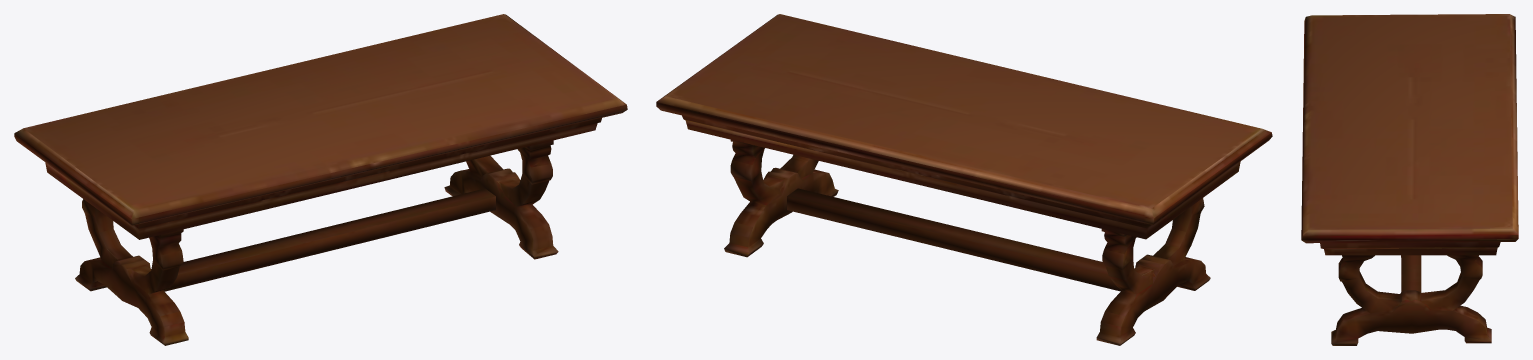
File: wyn_furn_banquet_table.glb
The picture shows the model from 3 angles, left to right: view 1: azimuth 30°, elevation 25°; view 2: azimuth 150°, elevation 25°; view 3: azimuth 270°, elevation 25°; orthographic projection. The views are drawn at different scales.
Visible parts, largest first — view 1: tripo_node_fc333d6c-31bf-4e8c-a0b8-9a70a515bad0; view 2: tripo_node_fc333d6c-31bf-4e8c-a0b8-9a70a515bad0; view 3: tripo_node_fc333d6c-31bf-4e8c-a0b8-9a70a515bad0.
Part boxes in pixels (x1,y1,x2,y2): tripo_node_fc333d6c-31bf-4e8c-a0b8-9a70a515bad0: [14, 14, 627, 345]; tripo_node_fc333d6c-31bf-4e8c-a0b8-9a70a515bad0: [656, 14, 1272, 345]; tripo_node_fc333d6c-31bf-4e8c-a0b8-9a70a515bad0: [1301, 14, 1518, 345].
Size of the model in its own units: 2.75 by 0.8501 by 1.17.
1 material, 1 textured.
